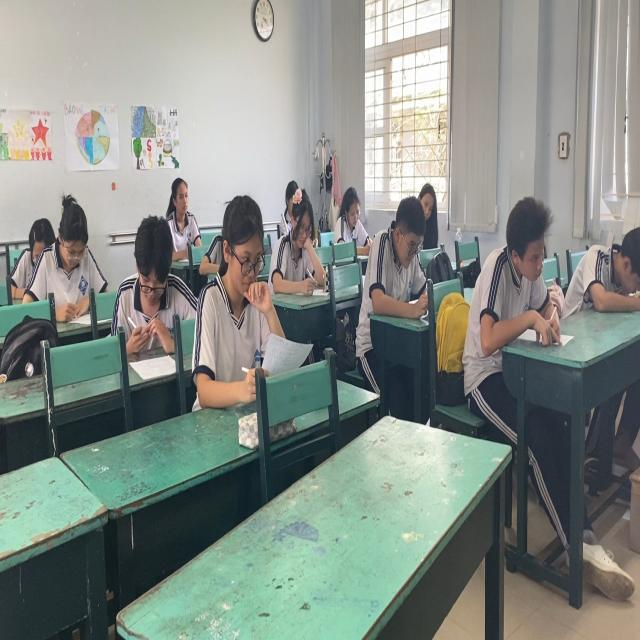not_cheating: (474, 188, 560, 346), (199, 192, 278, 354), (117, 212, 196, 337), (360, 198, 434, 330), (28, 192, 109, 305), (275, 164, 319, 288), (162, 171, 201, 254), (331, 184, 374, 256), (418, 178, 446, 236)
